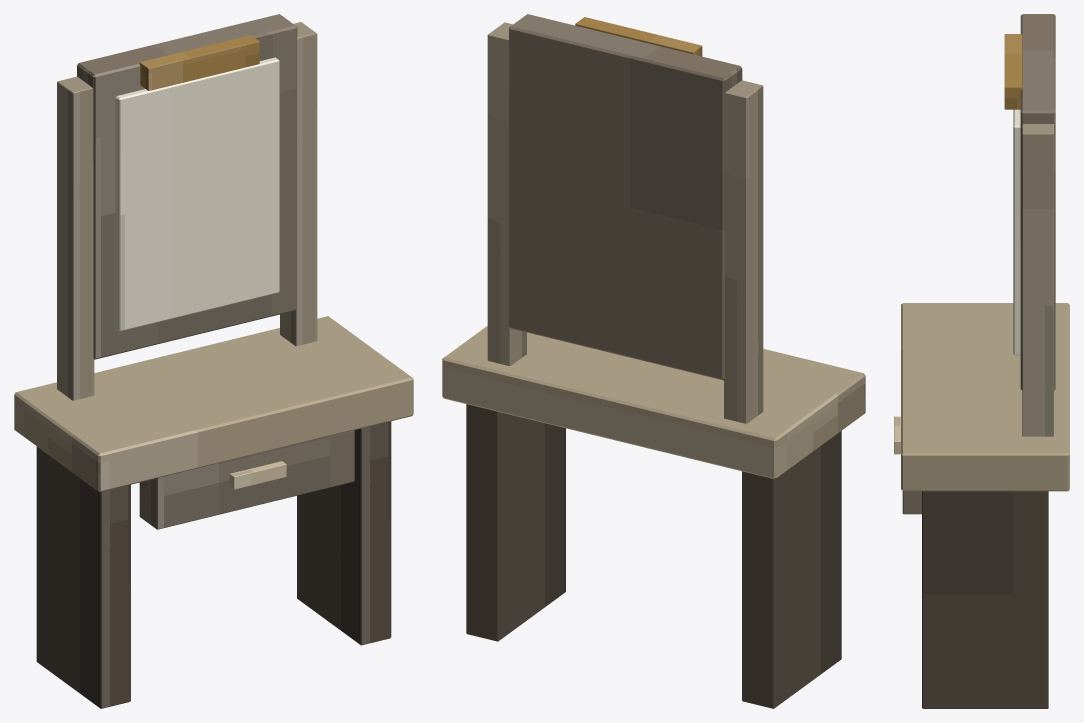
Rendered from bedroom_vanity_ivory.glb.
The picture shows the model from 3 angles, left to right: view 1: azimuth 30°, elevation 25°; view 2: azimuth 150°, elevation 25°; view 3: azimuth 270°, elevation 25°; orthographic projection. The views are drawn at different scales.
Visible parts, largest first — view 1: VanityTop, VanityMirrorGlass, VanityLeg_L, VanityMirrorBack, VanityLeg_R, MirrorPost_L, VanityDrawer, MirrorPost_R, VanityAccent, VanityHandle; view 2: VanityMirrorBack, VanityTop, VanityLeg_L, VanityLeg_R, MirrorPost_L, MirrorPost_R, VanityAccent; view 3: VanityLeg_R, VanityTop, MirrorPost_R, VanityMirrorBack, VanityMirrorGlass, VanityAccent, VanityDrawer.
Boxes of the visible parts, bbox=[...] form: VanityTop: bbox=[14, 316, 413, 492]; VanityMirrorGlass: bbox=[115, 57, 279, 331]; VanityLeg_L: bbox=[36, 446, 130, 708]; VanityMirrorBack: bbox=[77, 14, 297, 359]; VanityLeg_R: bbox=[297, 421, 391, 645]; MirrorPost_L: bbox=[57, 76, 94, 400]; VanityDrawer: bbox=[139, 430, 354, 529]; MirrorPost_R: bbox=[280, 22, 317, 346]; VanityAccent: bbox=[139, 35, 259, 90]; VanityHandle: bbox=[229, 461, 286, 489]; VanityMirrorBack: bbox=[509, 14, 742, 380]; VanityTop: bbox=[442, 326, 865, 479]; VanityLeg_L: bbox=[742, 431, 841, 708]; VanityLeg_R: bbox=[466, 404, 565, 641]; MirrorPost_L: bbox=[724, 80, 763, 423]; MirrorPost_R: bbox=[487, 22, 526, 365]; VanityAccent: bbox=[575, 17, 702, 56]; VanityLeg_R: bbox=[922, 491, 1048, 708]; VanityTop: bbox=[901, 303, 1069, 491]; MirrorPost_R: bbox=[1022, 124, 1053, 436]; VanityMirrorBack: bbox=[1020, 14, 1055, 390]; VanityMirrorGlass: bbox=[1013, 109, 1020, 355]; VanityAccent: bbox=[1004, 34, 1022, 109]; VanityDrawer: bbox=[902, 491, 921, 514].
Bounding box in the file's own units: 1.02 × 1.81 × 0.4995.
1 material, 1 textured.
